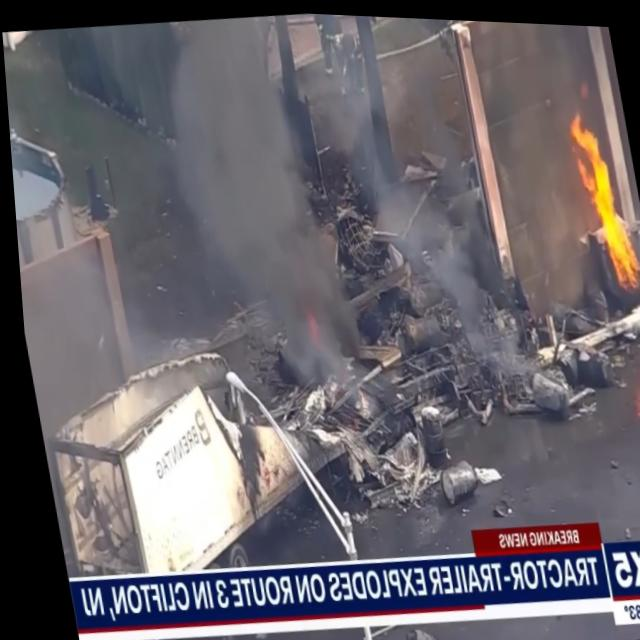Fire: (554, 89, 640, 295)
